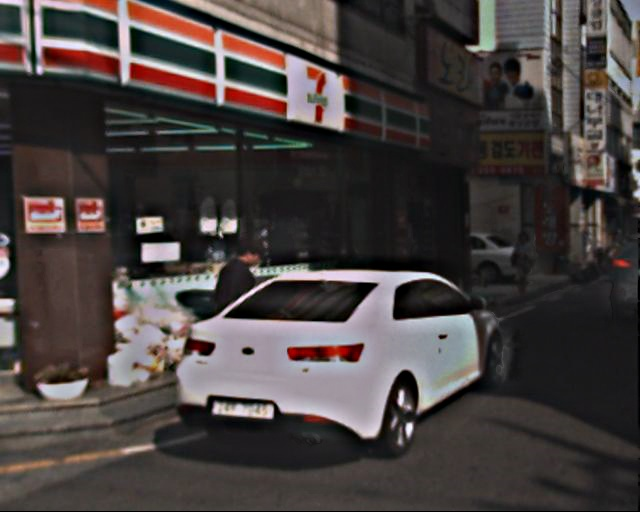person: (214, 232, 272, 374), (509, 229, 547, 300)
